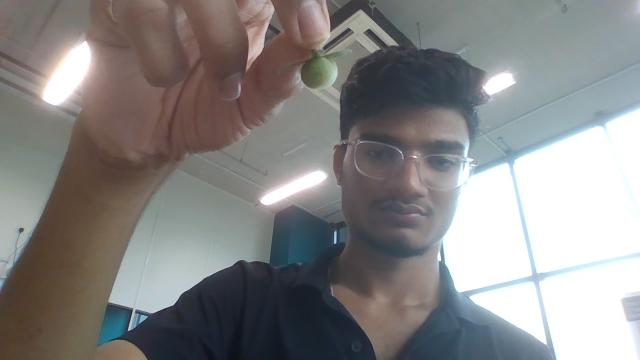Fruit Maturation: (299, 52, 338, 91)
